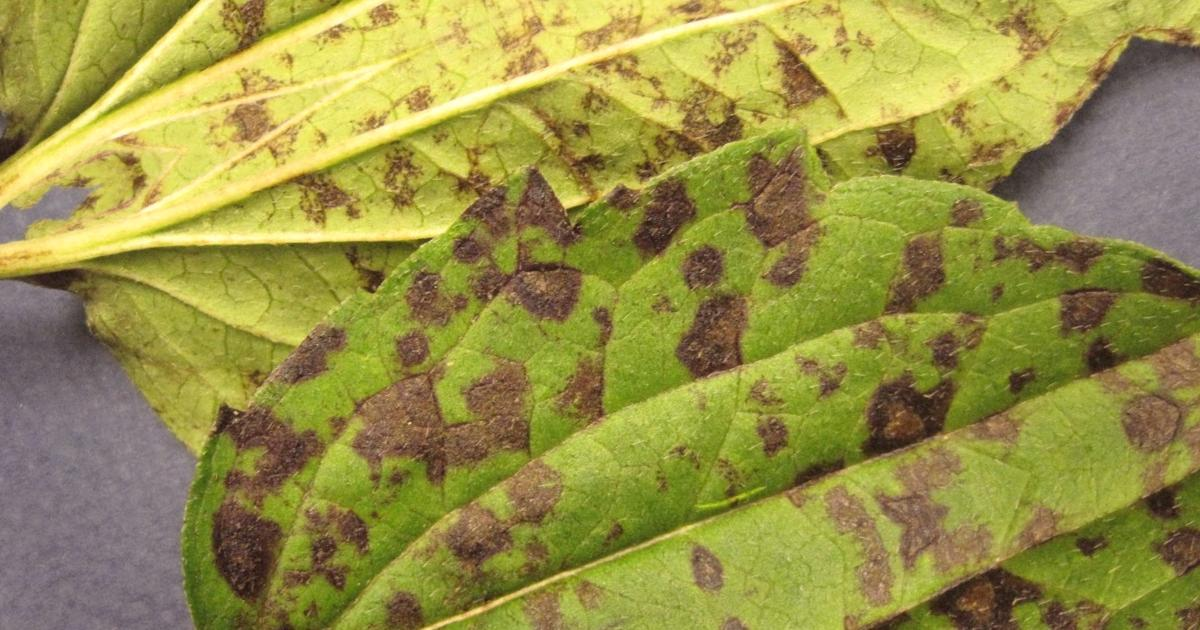Tomato Septoria leaf spot: (31, 0, 1200, 630), (6, 0, 1172, 562)
